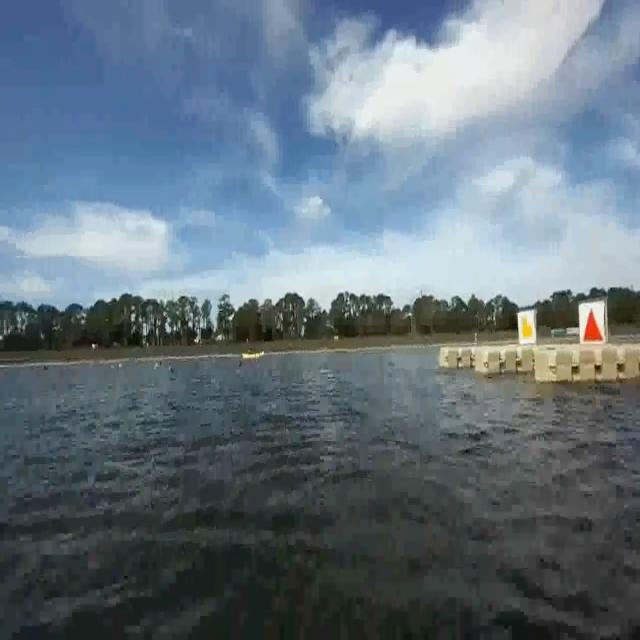red-dot: (578, 303, 604, 342)
yellow-duck: (521, 315, 534, 337)
